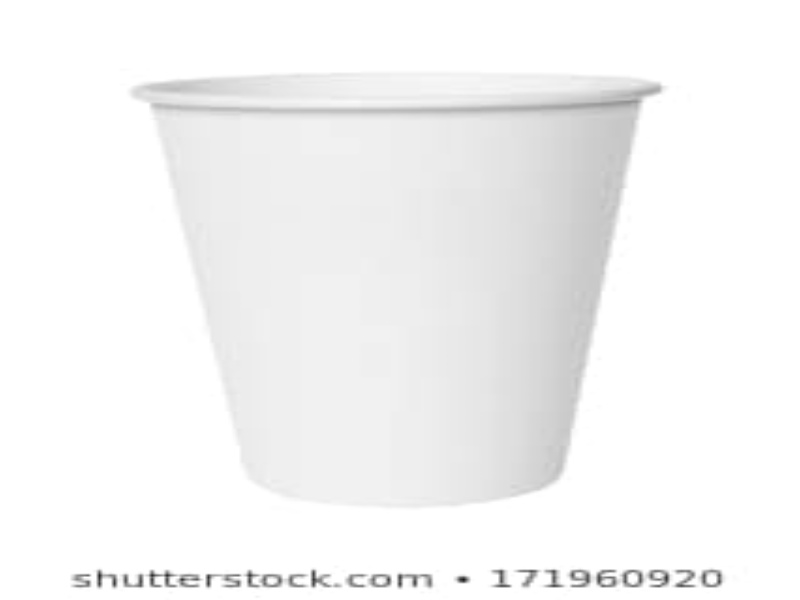plastic-cup: (122, 70, 684, 517)
